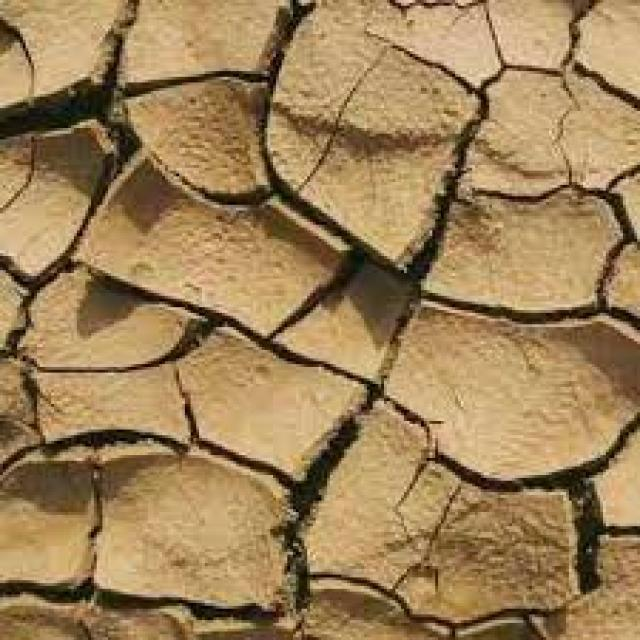Clay Soil: (59, 55, 585, 571)
